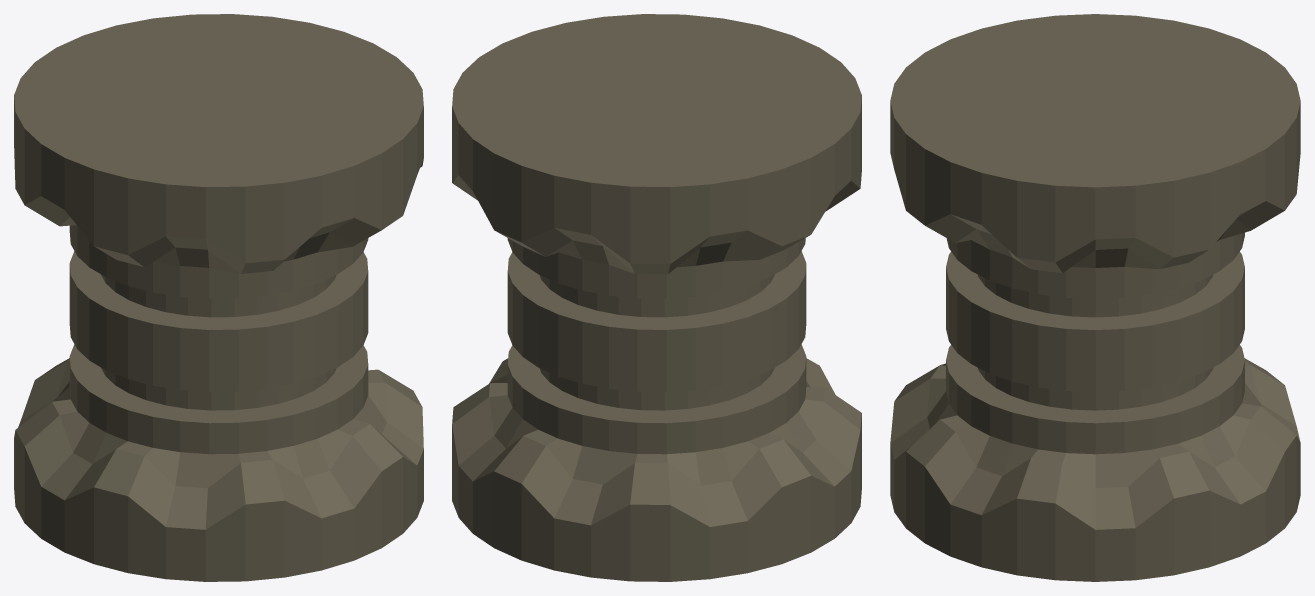
Rendered from Coloumn1.fbx.
3 renders of one model, left to right at view 1: azimuth 30°, elevation 25°; view 2: azimuth 150°, elevation 25°; view 3: azimuth 270°, elevation 25°, orthographic.
Visible parts, largest first — view 1: Coloumn1; view 2: Coloumn1; view 3: Coloumn1.
Boxes of the visible parts, x1,y1,x2,y2 form: Coloumn1: (14, 14, 423, 581); Coloumn1: (452, 14, 861, 581); Coloumn1: (890, 14, 1300, 581).
Bounding box in the file's own units: 94.26 × 100 × 94.26.
